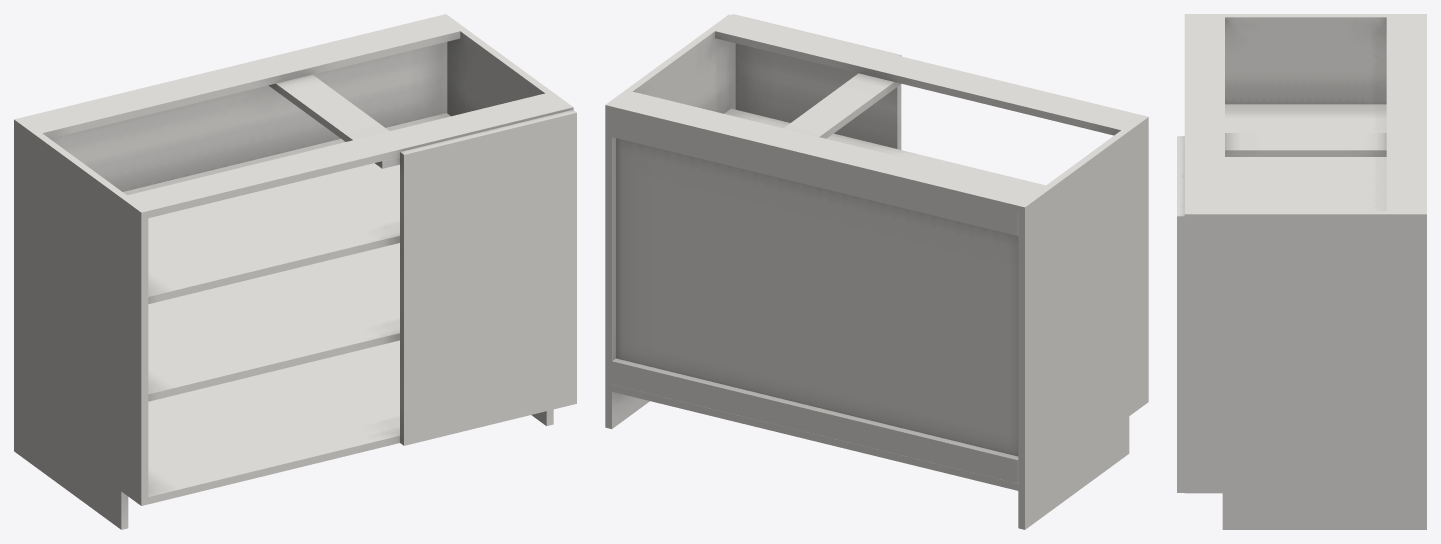
File: blind-corner-base-doors-off.glb
The picture shows the model from 3 angles, left to right: view 1: azimuth 30°, elevation 25°; view 2: azimuth 150°, elevation 25°; view 3: azimuth 270°, elevation 25°; orthographic projection. The views are drawn at different scales.
Visible parts, largest first — view 1: part_0; view 2: part_0; view 3: part_0.
Boxes of the visible parts, <box> form: part_0: <box>14,14,576,529</box>; part_0: <box>605,14,1148,529</box>; part_0: <box>1177,14,1426,529</box>.
Size of the model in its own units: 1.19 by 0.8763 by 0.6289.
Materials: 1 (1 with a texture image).
